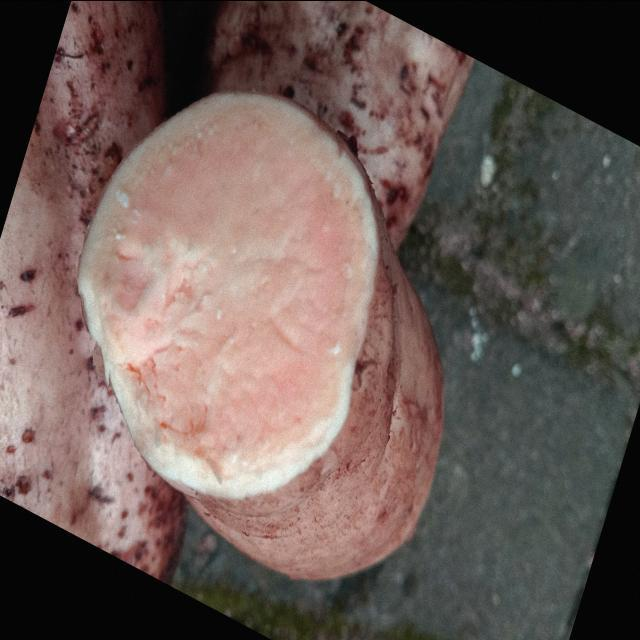Healthy Sweet Potato: (79, 93, 378, 497)
